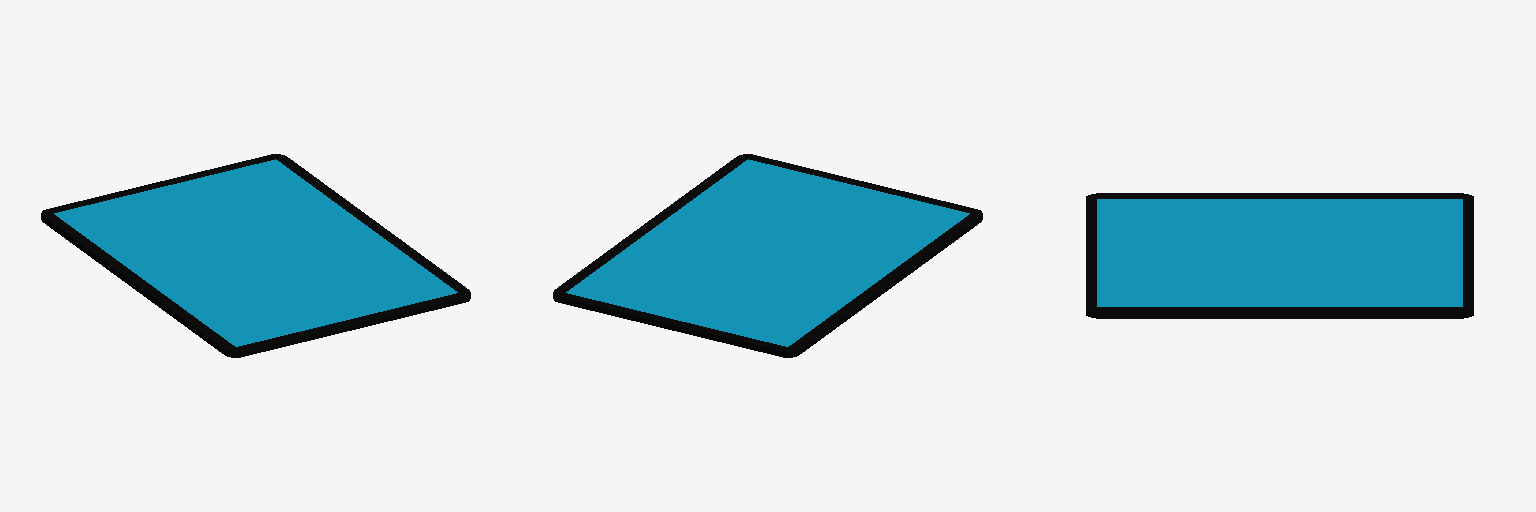
The model's file is tablet.obj.
3 views of the same model, side by side, from view 1: azimuth 30°, elevation 25°; view 2: azimuth 150°, elevation 25°; view 3: azimuth 270°, elevation 25° (orthographic).
Visible parts, largest first — view 1: Cube; view 2: Cube; view 3: Cube.
Part boxes in pixels (x1,y1,x2,y2): Cube: (41,154,470,357); Cube: (553,154,982,357); Cube: (1086,193,1473,318).
Size of the model in its own units: 6.7 by 0.161 by 9.23.